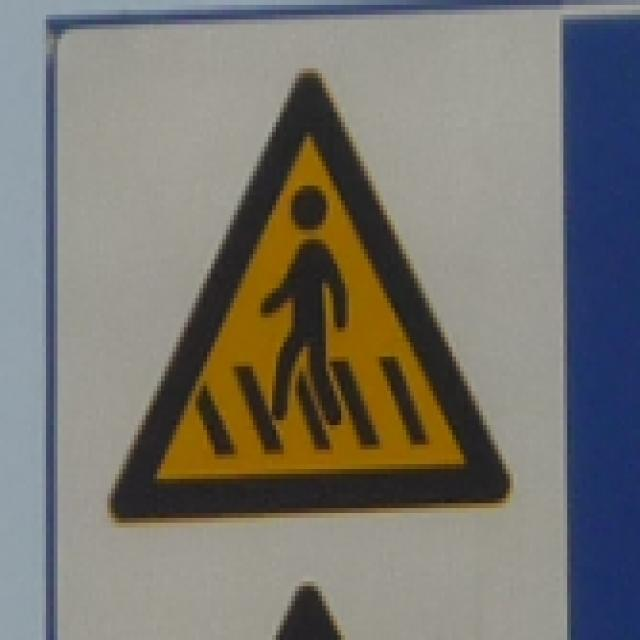Crossing: (102, 49, 533, 535)
